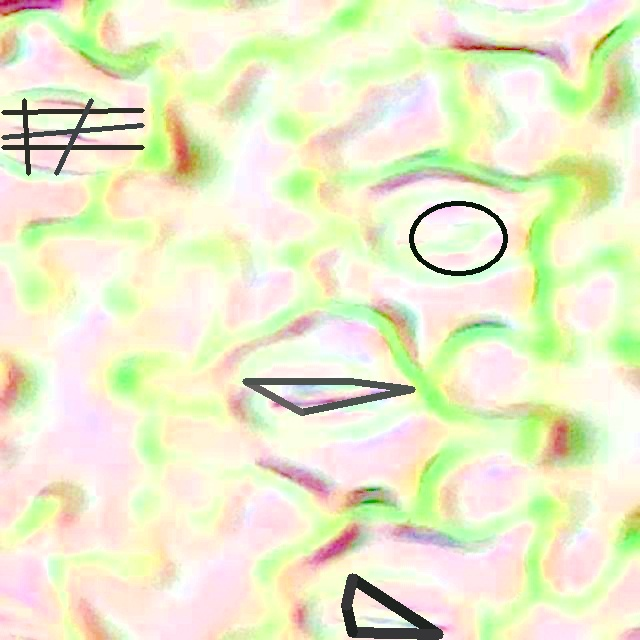close: (408, 200, 508, 277)
open: (1, 98, 144, 175), (341, 574, 443, 637), (242, 378, 415, 415)
